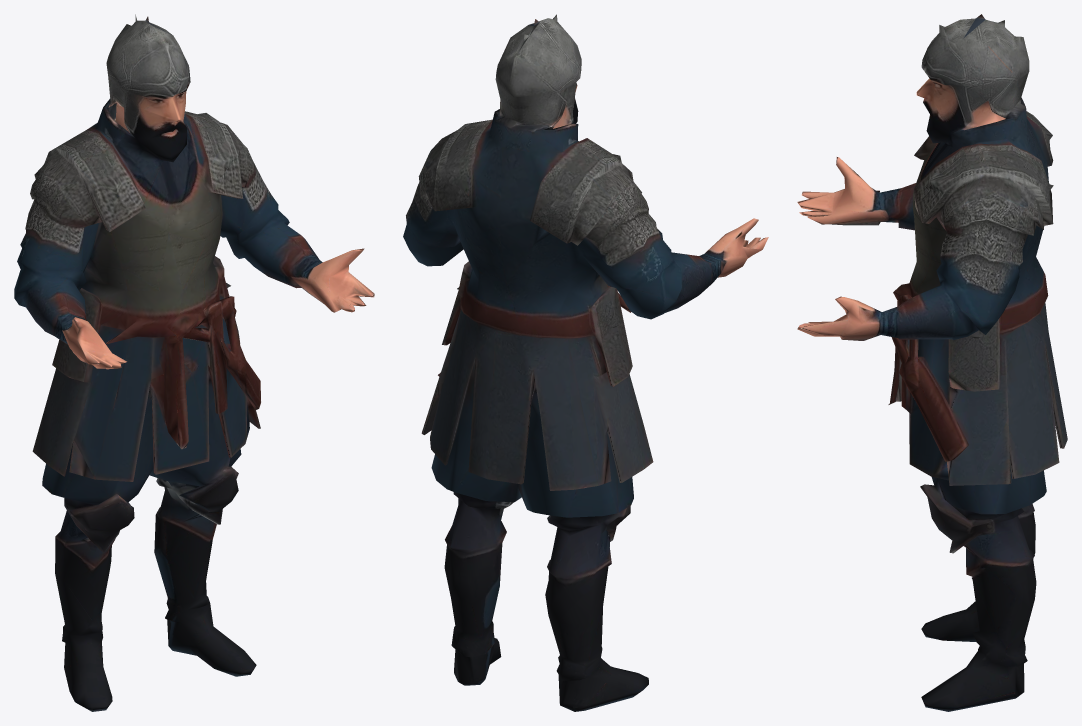
Rendered from unit_NG_GIAO.glb.
3 views of the same model, side by side, from view 1: azimuth 30°, elevation 25°; view 2: azimuth 150°, elevation 25°; view 3: azimuth 270°, elevation 25° (orthographic).
Bounding box in the file's own units: 0.8819 × 1.9 × 0.706.
Materials: 1 (1 with a texture image).
